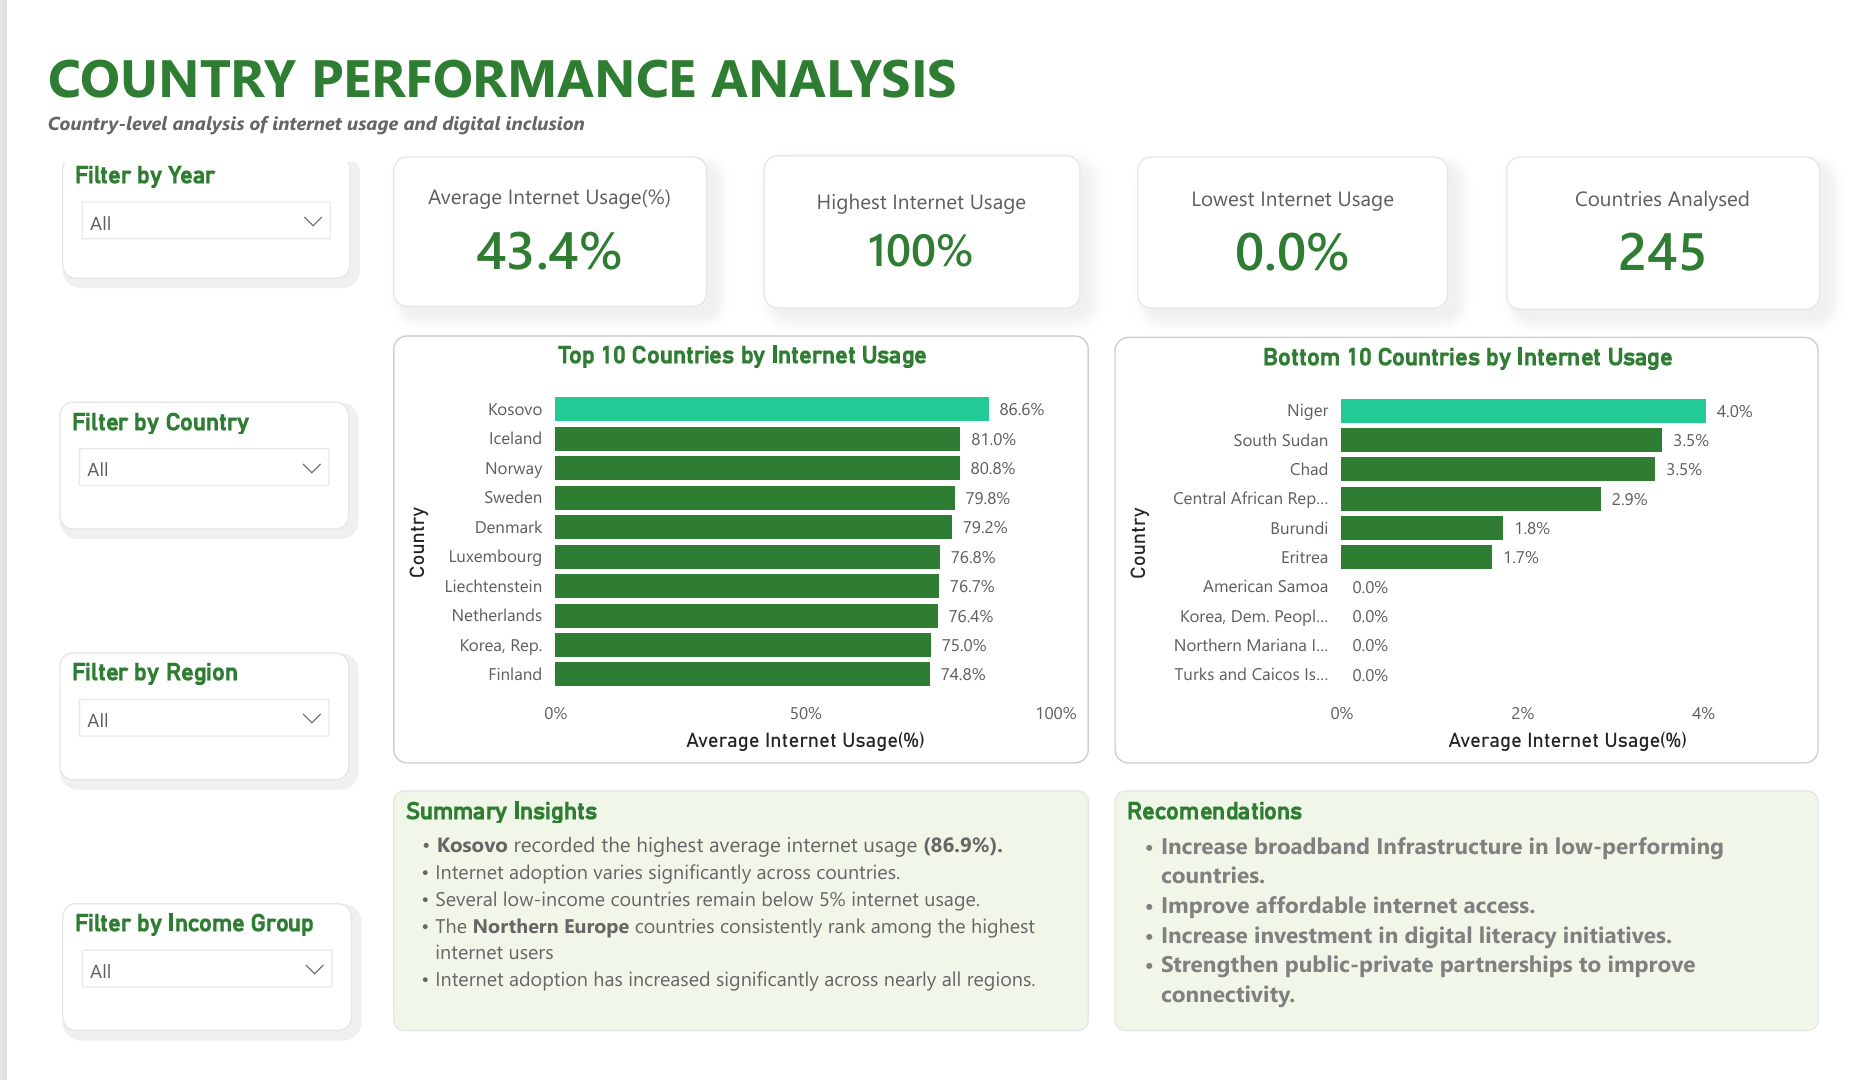

The page's visual inventory and layout, read from the dashboard file:
{"tool":"powerbi","page":{"name":"Country Performance Analysis","canvas":[1280,720],"ordinal":1},"visuals":[{"type":"clusteredBarChart","title":"Top 10 Countries by  Internet Usage","fields":{"Category":["WDICountry.Country"],"Y":["Internet Adoption.Average Internet Usage(%)"]},"box":[250.1,214.3,494.1,303.5],"z":0},{"type":"slicer","title":"Filter by Country","fields":{"Values":["Internet Adoption.Country Name"]},"box":[13.2,261.3,205.9,90.9],"z":1000},{"type":"clusteredBarChart","title":"Bottom 10 Countries by  Internet Usage","fields":{"Category":["WDICountry.Country"],"Y":["Internet Adoption.Average Internet Usage(%)"]},"box":[761.9,215.1,500.4,303.4],"z":2000},{"type":"slicer","title":"Filter by Year","fields":{"Values":["Internet Adoption.Year"]},"box":[14.7,86,204.9,88.3],"z":3000},{"type":"slicer","title":"Filter by Region","fields":{"Values":["WDICountry.Region"]},"box":[13.4,439.2,205.9,90.9],"z":4000},{"type":"slicer","title":"Filter by Income Group","fields":{"Values":["WDICountry.Income Group"]},"box":[14.7,617,206,90.6],"z":5000},{"type":"textbox","box":[0,0,1279.2,90.6],"z":6000},{"type":"cardVisual","fields":{"Data":["Internet Adoption.Average Internet Usage(%)"]},"box":[250.1,87.4,222.7,106.8],"z":7000},{"type":"textbox","title":"Summary Insights","box":[250.1,536.8,494.1,170.8],"z":8000},{"type":"textbox","title":"Recomendations","box":[761.9,536.7,500.4,170.9],"z":9000},{"type":"cardVisual","fields":{"Data":["Internet Adoption.Countries Analysed"]},"box":[1040.1,87.4,222.7,108.3],"z":10000},{"type":"cardVisual","fields":{"Data":["Internet Adoption.Lowest Internet Usage"]},"box":[778.3,86.9,221.1,108.3],"z":11000},{"type":"cardVisual","fields":{"Data":["Internet Adoption.Highest Internet User"]},"box":[513.4,86.4,224.2,108.3],"z":12000}]}

Visuals, with their boxes in screenshot pixels (x1, y1, x2, y2), scaled from the page's 1280x720 canvas onto the 1868x1080 screenshot:
"Top 10 Countries by  Internet Usage" clusteredBarChart: crop(365, 321, 1086, 777)
"Filter by Country" slicer: crop(19, 392, 320, 528)
"Bottom 10 Countries by  Internet Usage" clusteredBarChart: crop(1112, 323, 1842, 778)
"Filter by Year" slicer: crop(21, 129, 320, 261)
"Filter by Region" slicer: crop(20, 659, 320, 795)
"Filter by Income Group" slicer: crop(21, 926, 322, 1061)
textbox: crop(0, 0, 1867, 136)
cardVisual - Internet Adoption.Average Internet Usage(%): crop(365, 131, 690, 291)
"Summary Insights" textbox: crop(365, 805, 1086, 1061)
"Recomendations" textbox: crop(1112, 805, 1842, 1061)
cardVisual - Internet Adoption.Countries Analysed: crop(1518, 131, 1843, 294)
cardVisual - Internet Adoption.Lowest Internet Usage: crop(1136, 130, 1458, 293)
cardVisual - Internet Adoption.Highest Internet User: crop(749, 130, 1076, 292)
